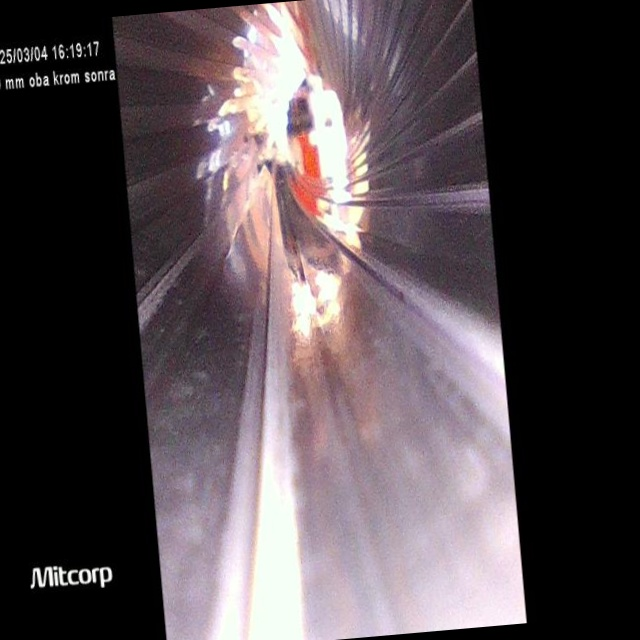hata_4.1: (133, 299, 226, 634)
